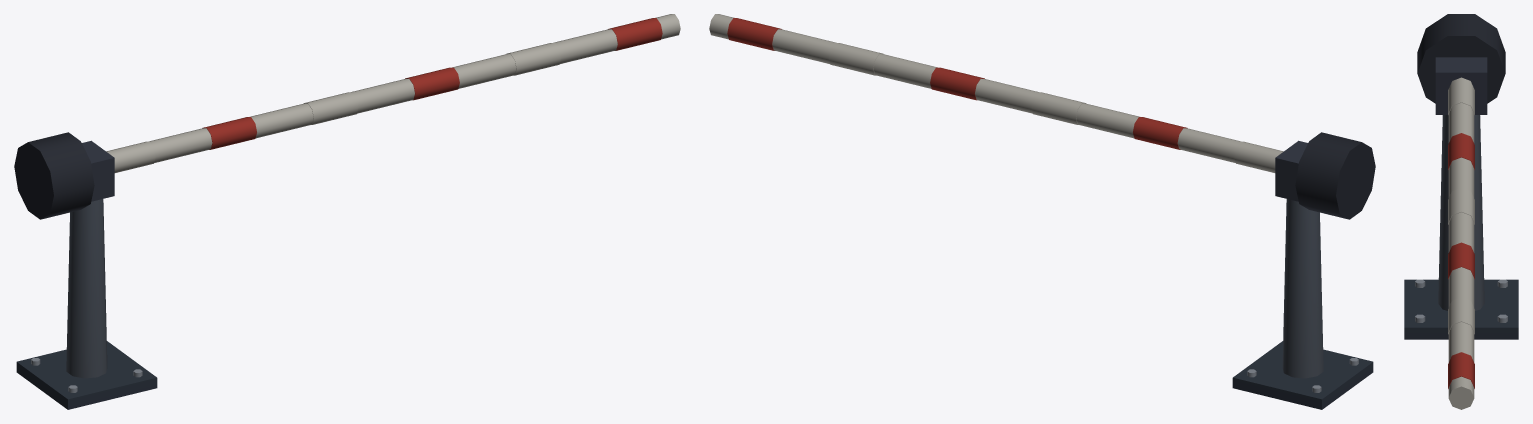
The model's file is checkpoint-barrier.glb.
3 renders of one model, left to right at view 1: azimuth 30°, elevation 25°; view 2: azimuth 150°, elevation 25°; view 3: azimuth 270°, elevation 25°, orthographic. The views are drawn at different scales.
Parts seen in each view (by area): view 1: checkpoint_barrier; view 2: checkpoint_barrier; view 3: checkpoint_barrier.
Part boxes in pixels (x1,y1,x2,y2): checkpoint_barrier: (14, 14, 680, 409); checkpoint_barrier: (709, 14, 1375, 409); checkpoint_barrier: (1404, 14, 1518, 409).
Bounding box in the file's own units: 3.16 × 1.16 × 0.4398.
